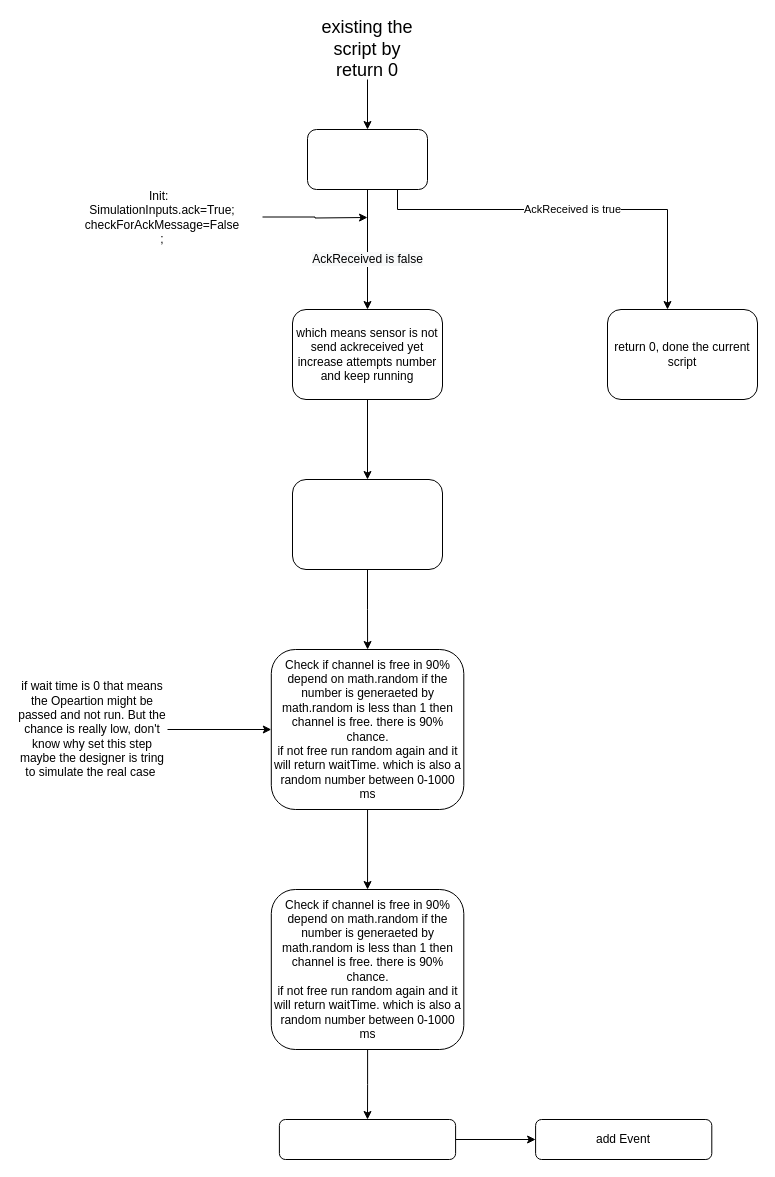
The diagram is 775 pixels wide and 1177 high, and some of its shapes have lost their labels. Here are the shapes that lost their labels. From the top down, the box of each, then its label:
(306, 128, 428, 190): When user use send script command
(292, 478, 442, 570): Set writtenInUART = true continue running the current script command
(278, 1118, 456, 1160): run sendOperation Mehtod
